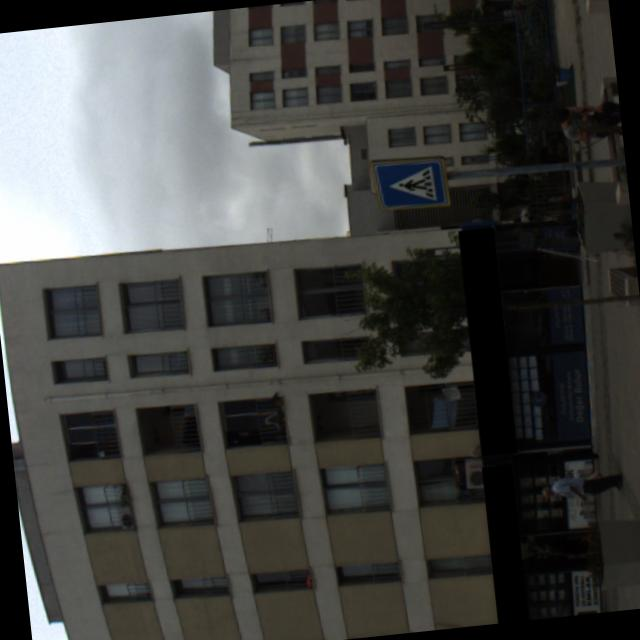SignStore: (461, 226, 516, 454), (482, 463, 528, 622)
